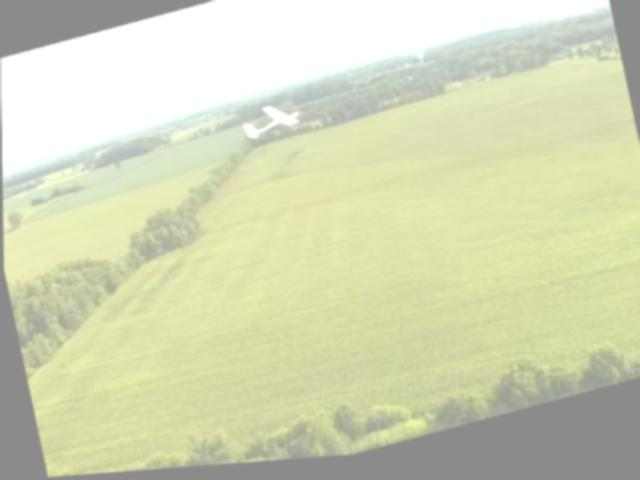uav: (231, 92, 312, 156)
